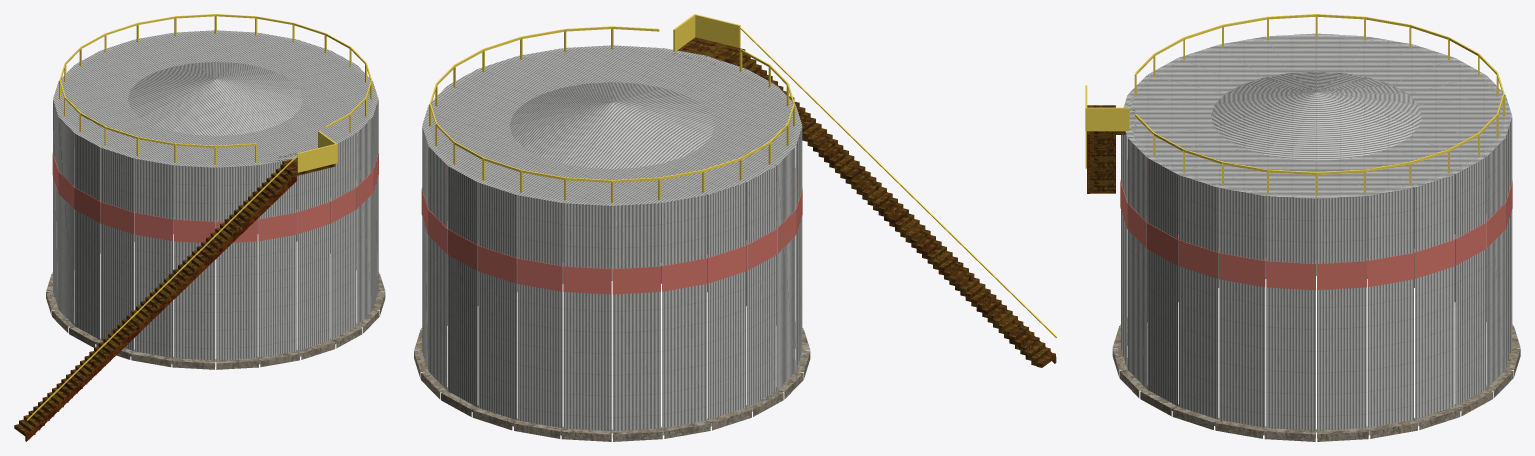
Rendered from ew-tank-white.zfix-v8.lod0.glb.
3 renders of one model, left to right at view 1: azimuth 30°, elevation 25°; view 2: azimuth 150°, elevation 25°; view 3: azimuth 270°, elevation 25°, orthographic. The views are drawn at different scales.
Parts seen in each view (by area): view 1: ew-tank-white; view 2: ew-tank-white; view 3: ew-tank-white.
Boxes of the visible parts, <box> form: ew-tank-white: <box>14,14,385,441</box>; ew-tank-white: <box>414,14,1056,441</box>; ew-tank-white: <box>1085,14,1520,441</box>.
Size of the model in its own units: 24.96 by 12.35 by 18.13.
4 materials, 3 textured.
